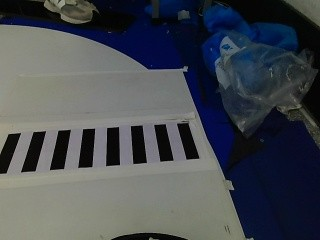crosswalk: (0, 122, 203, 170)
